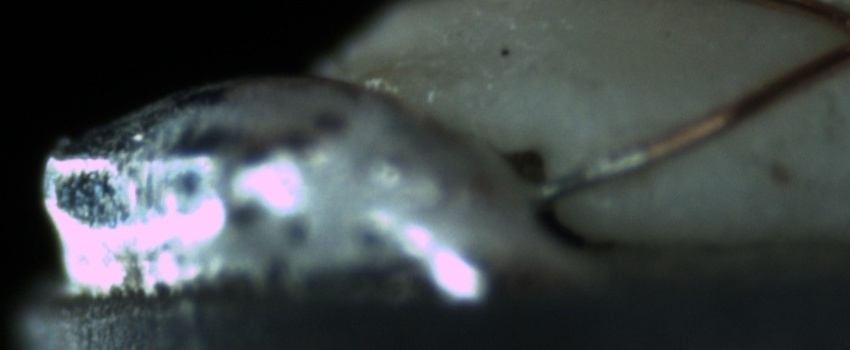TS: (529, 142, 644, 201)
